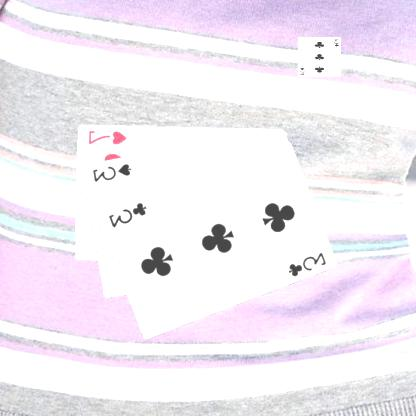3C: (107, 200, 149, 229), (287, 249, 329, 278)
3S: (91, 160, 134, 182)
7H: (87, 127, 129, 146)
